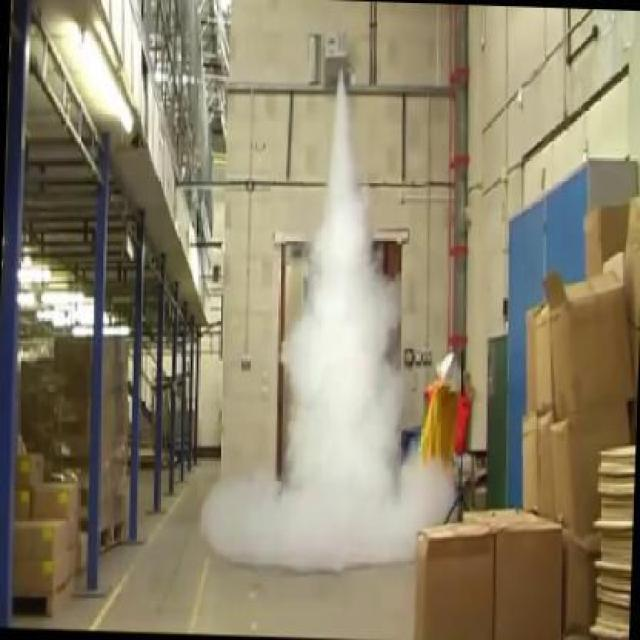fire: (274, 82, 416, 475), (194, 456, 468, 576)
